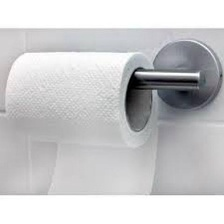tissue: (0, 44, 164, 194)
